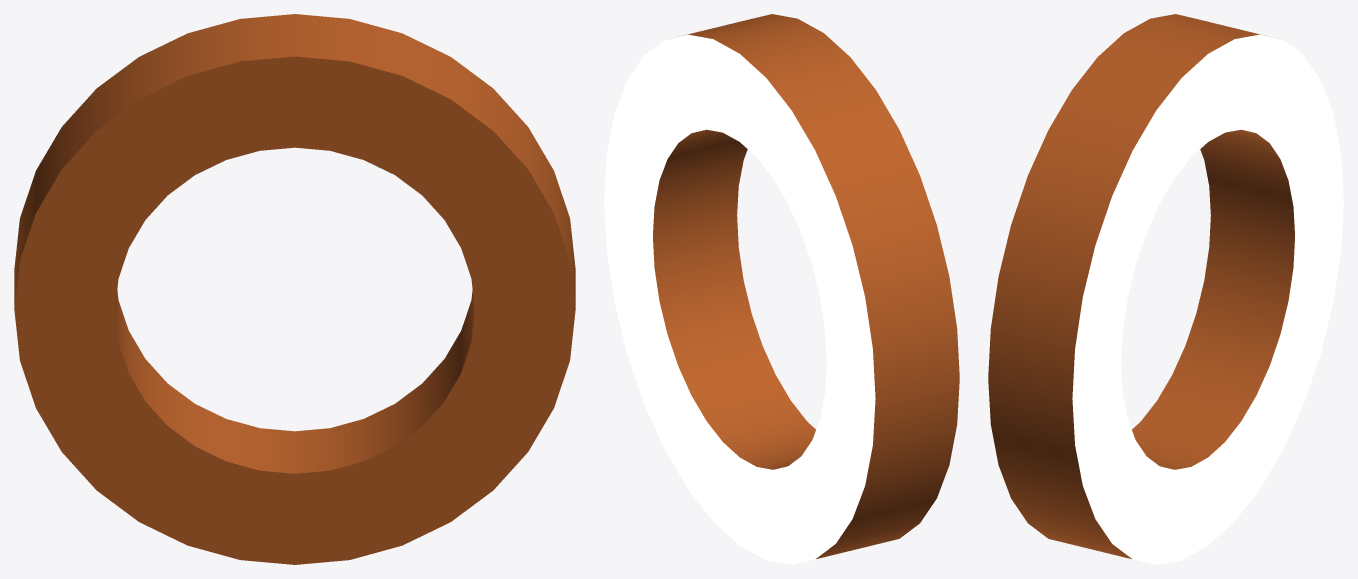
File: toronto-sign.005.gltf
3 views of the same model, side by side, from view 1: azimuth 30°, elevation 25°; view 2: azimuth 150°, elevation 25°; view 3: azimuth 270°, elevation 25° (orthographic). The views are drawn at different scales.
Visible parts, largest first — view 1: toronto-sign.005; view 2: toronto-sign.005; view 3: toronto-sign.005.
Part boxes in pixels (x1,y1,x2,y2): toronto-sign.005: (14, 14, 575, 564); toronto-sign.005: (604, 14, 959, 564); toronto-sign.005: (988, 14, 1343, 564).
Size of the model in its own units: 0.6267 by 0.6557 by 0.4297.
